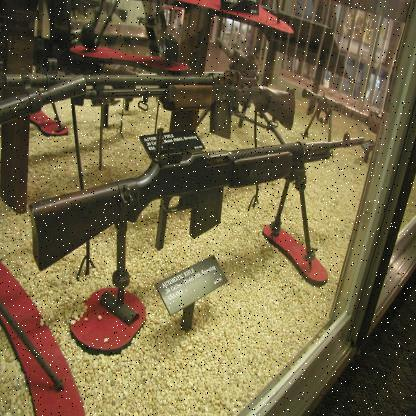rifle: (24, 120, 374, 300)
